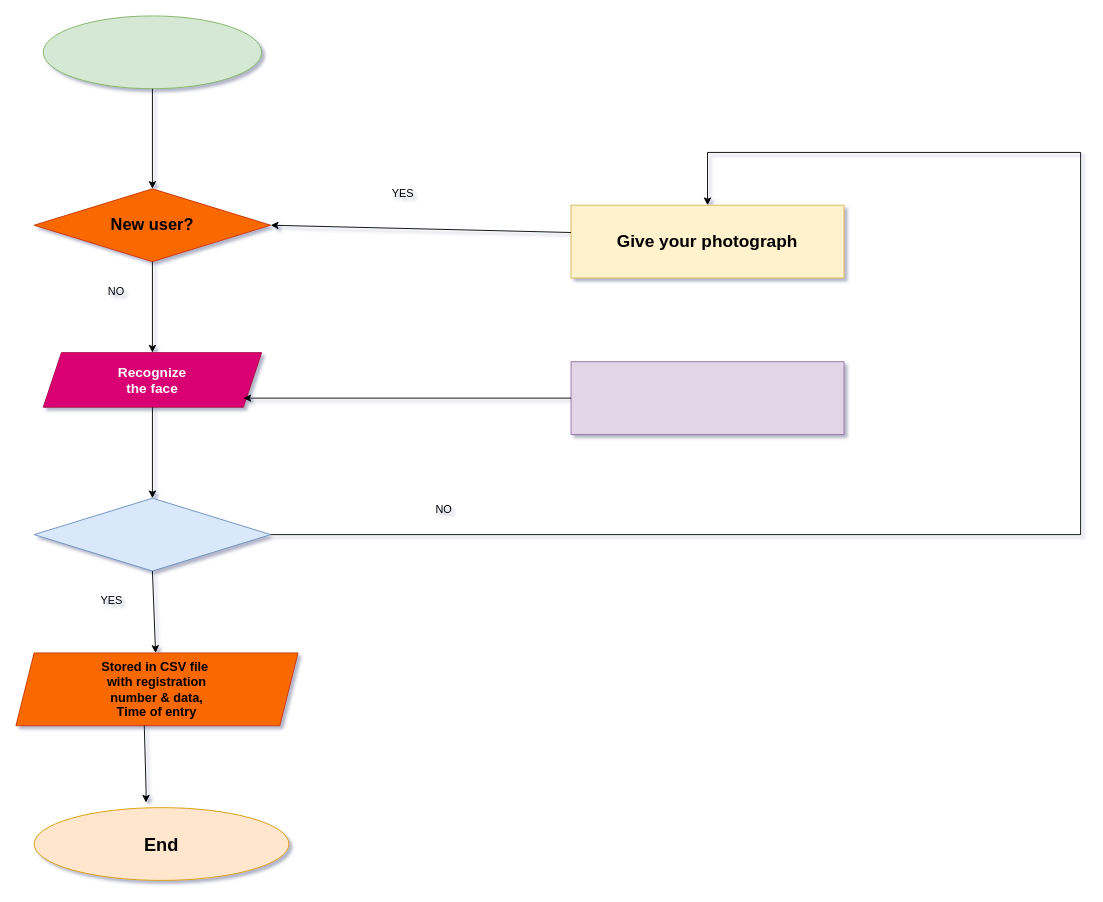
This 1103x902 diagram has some shape labels left out. The shapes that lost their labels are listed below. From the top down, each one's centre as x and y in pixels, then its label:
At point 152,52: "Start".
At point 707,398: "store the face data in folder on your frame".
At point 152,534: "Face recognized".
